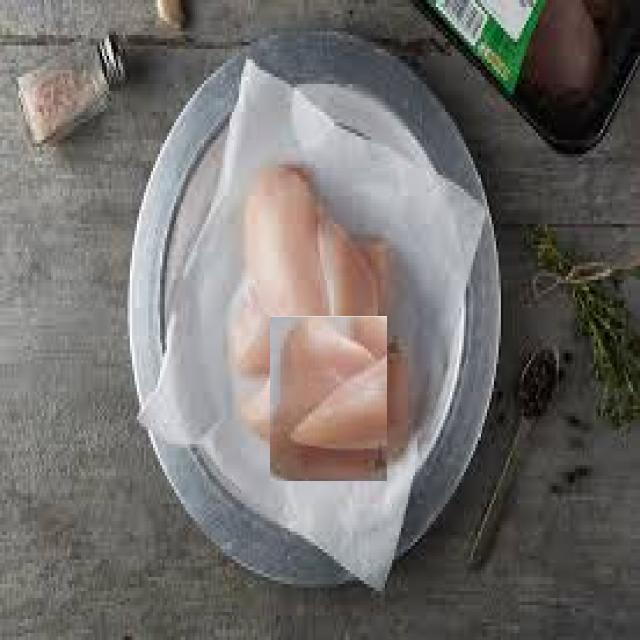chicken: (228, 159, 382, 435), (258, 328, 400, 470)
